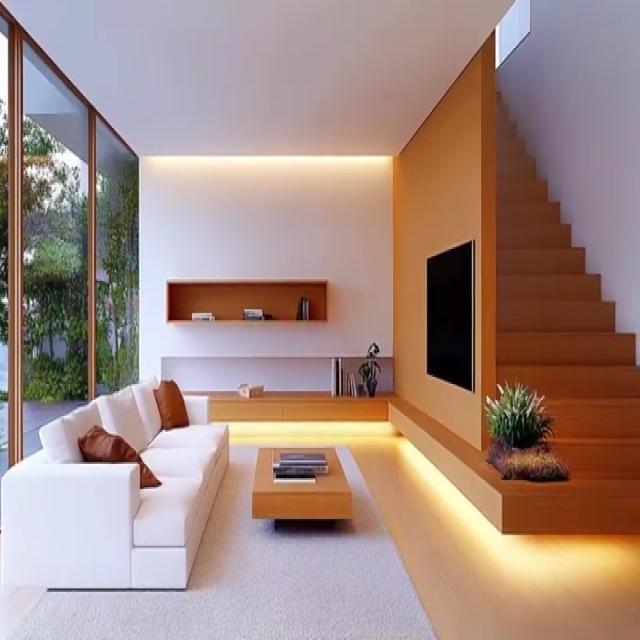obstacle: (0, 375, 229, 590), (251, 444, 352, 528), (165, 278, 328, 324)
